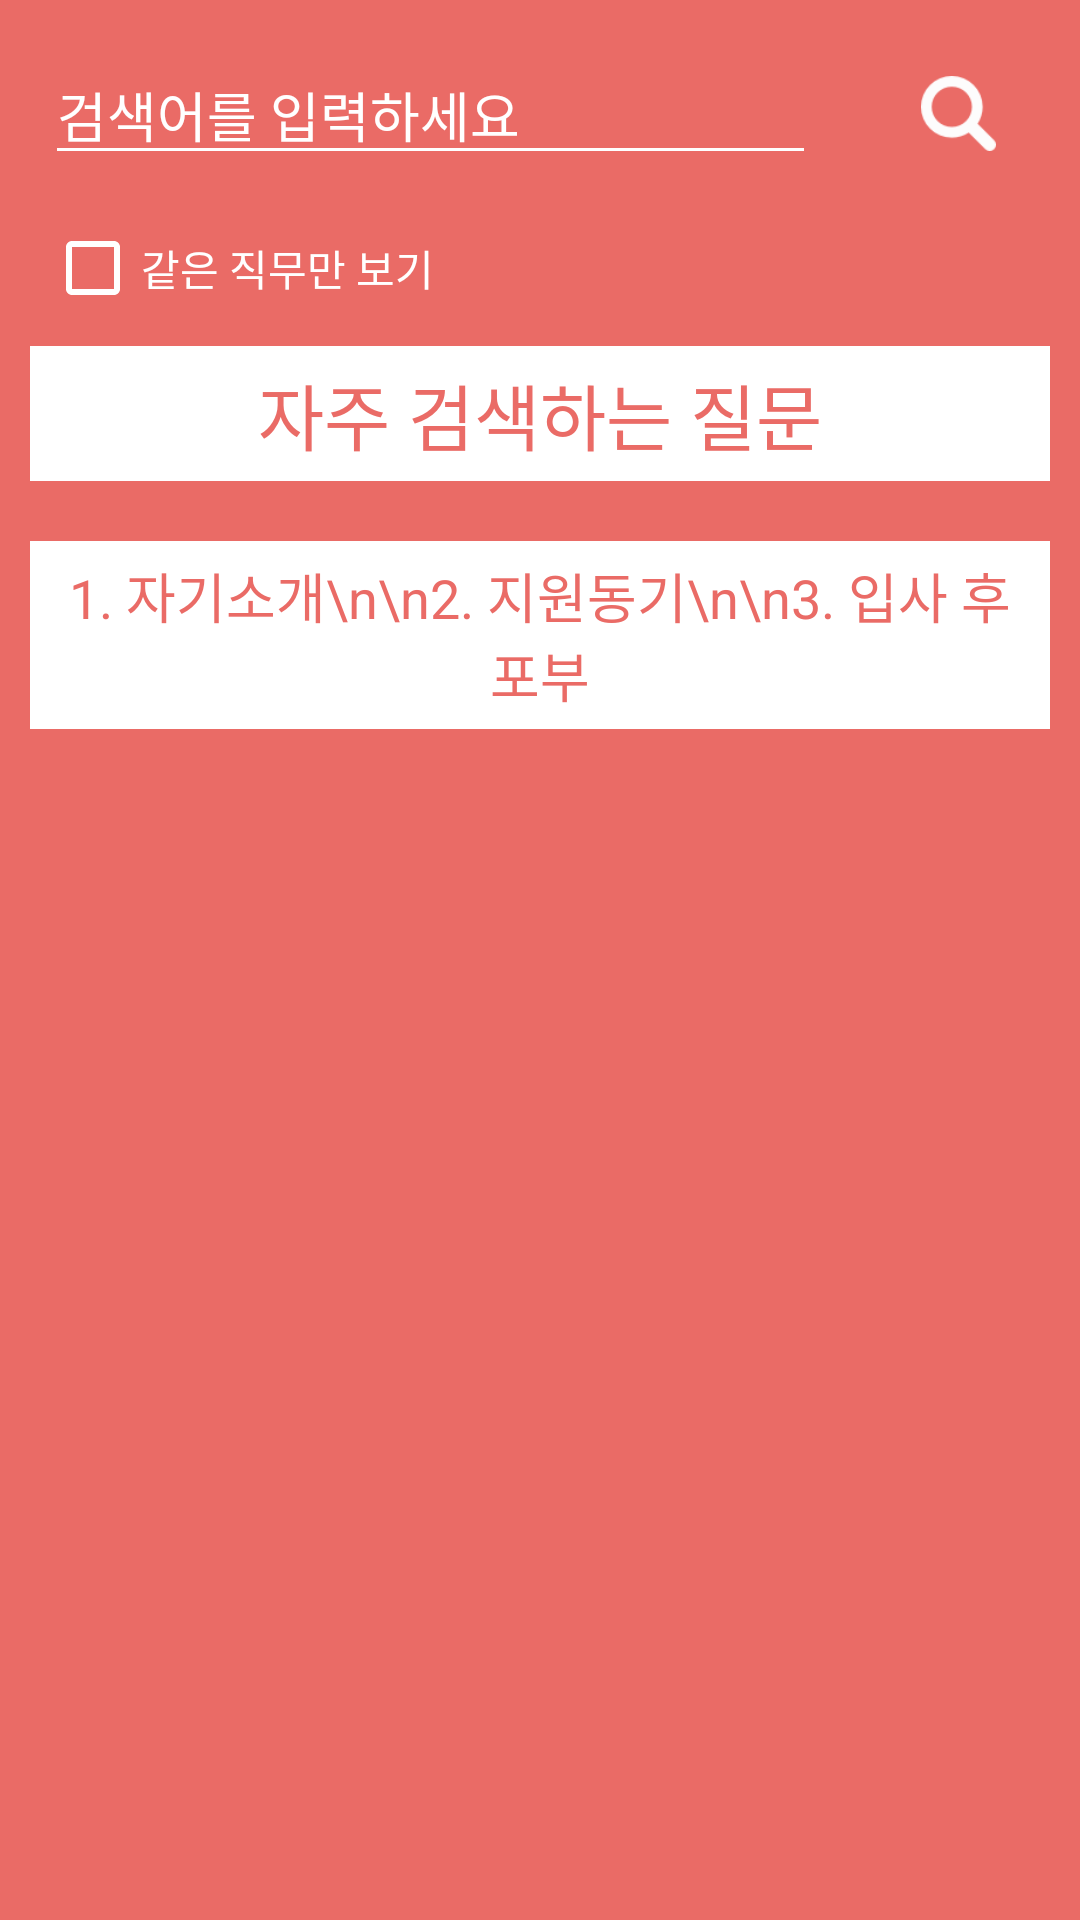

Locate icon controls on the screen. Image size 1080*1920, boxes as (x1, y1, x2, y2).
musica searcher: (921, 76, 996, 151)
